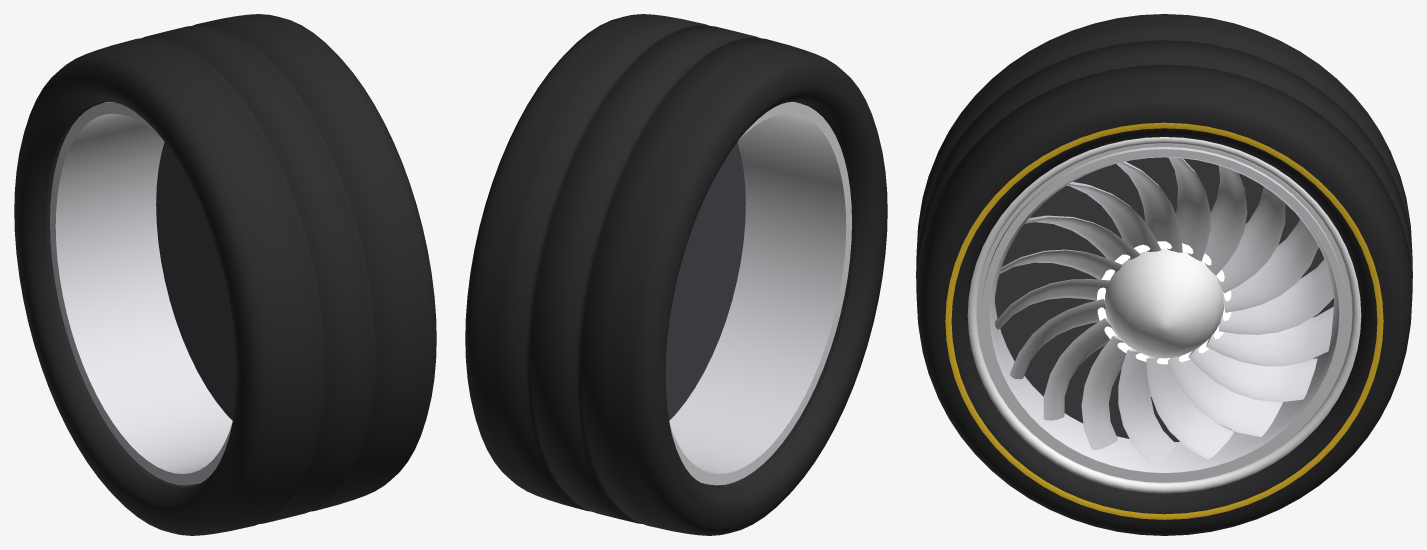
Rendered from wheel_turbine.glb.
The picture shows the model from 3 angles, left to right: view 1: azimuth 30°, elevation 25°; view 2: azimuth 150°, elevation 25°; view 3: azimuth 270°, elevation 25°; orthographic projection.
Visible parts, largest first — view 1: wheel_turbine; view 2: wheel_turbine; view 3: wheel_turbine.
Part boxes in pixels (x1,y1,x2,y2): wheel_turbine: [14, 14, 436, 535]; wheel_turbine: [465, 14, 887, 535]; wheel_turbine: [916, 14, 1412, 535].
Bounding box in the file's own units: 0.2645 × 0.56 × 0.56.
